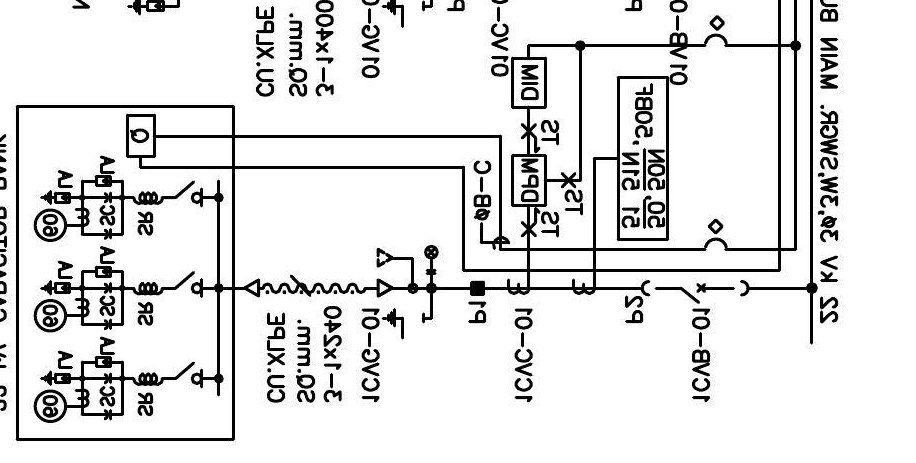22_breaker: (640, 279, 750, 305)
22_cap_bank: (15, 104, 236, 442)
22_gs: (381, 307, 426, 341)
22_ll: (423, 244, 440, 276)
DIM: (510, 56, 548, 110)
DPM: (510, 153, 548, 208)
Q: (125, 113, 156, 159)
terminator_single: (243, 277, 261, 298)
terminator_w_future: (376, 247, 415, 299)
